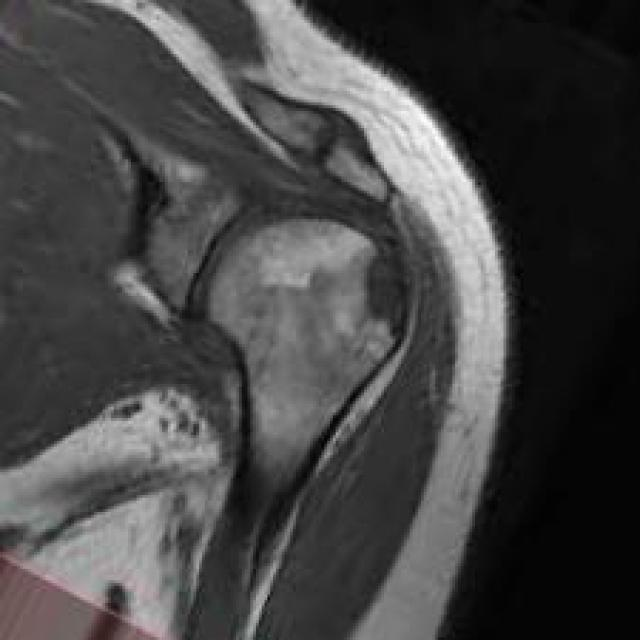Comminuted: (359, 240, 428, 344)
